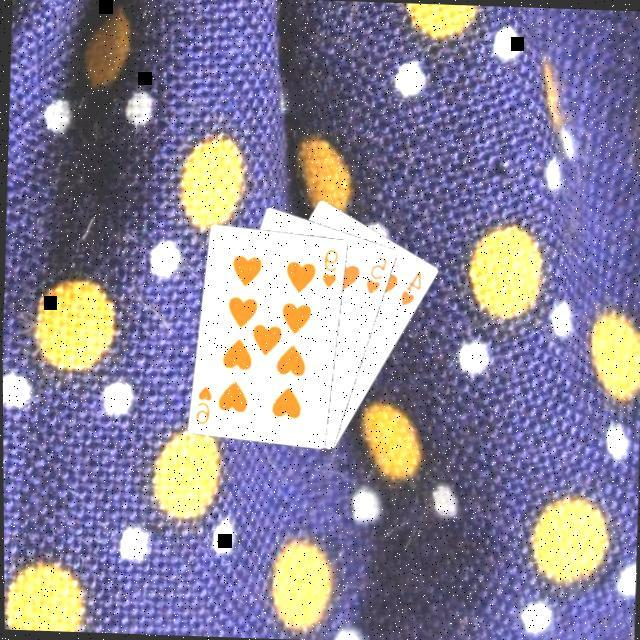4H: (397, 268, 425, 311)
5H: (362, 254, 390, 300)
9H: (318, 246, 342, 293), (192, 384, 216, 429)
